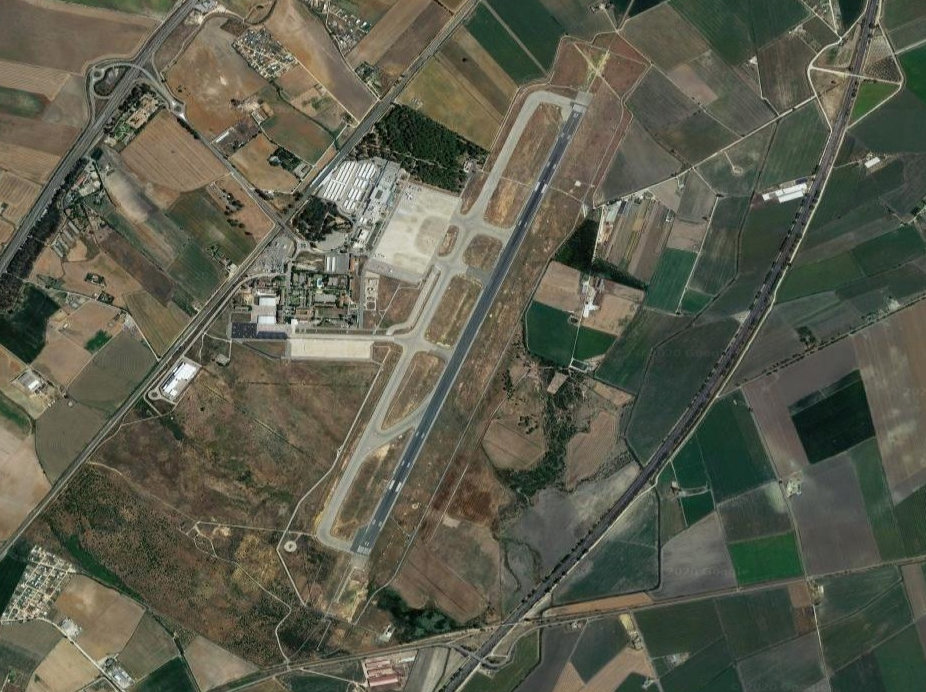airport: (227, 89, 596, 560)
motorway: (95, 1, 198, 102), (147, 83, 223, 162), (447, 611, 519, 692), (515, 532, 587, 613), (588, 465, 660, 546), (644, 385, 716, 466), (700, 306, 772, 387), (750, 226, 822, 307), (48, 99, 117, 183), (1, 183, 55, 272), (218, 154, 285, 221), (787, 146, 837, 228), (821, 64, 871, 146), (39, 443, 84, 501), (84, 395, 129, 453), (842, 1, 882, 66), (1, 490, 39, 553)
